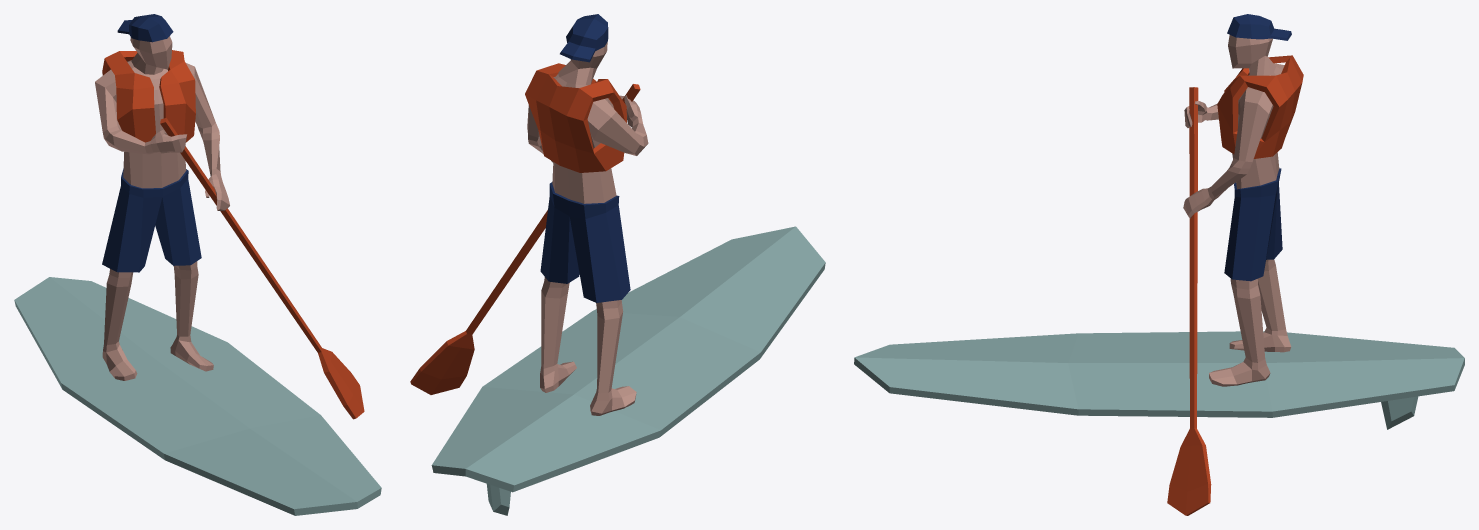
Rendered from PaddleBoard_R2.obj.
3 views of the same model, side by side, from view 1: azimuth 30°, elevation 25°; view 2: azimuth 150°, elevation 25°; view 3: azimuth 270°, elevation 25° (orthographic). The views are drawn at different scales.
Parts seen in each view (by area): view 1: Model_padlesurf_Untitled.002; view 2: Model_padlesurf_Untitled.002; view 3: Model_padlesurf_Untitled.002.
Boxes of the visible parts, left/top/right/bottom form: Model_padlesurf_Untitled.002: left=14, top=14, right=381, bottom=515; Model_padlesurf_Untitled.002: left=410, top=14, right=825, bottom=515; Model_padlesurf_Untitled.002: left=854, top=14, right=1464, bottom=515.
Bounding box in the file's own units: 0.8295 × 1.24 × 1.66.
